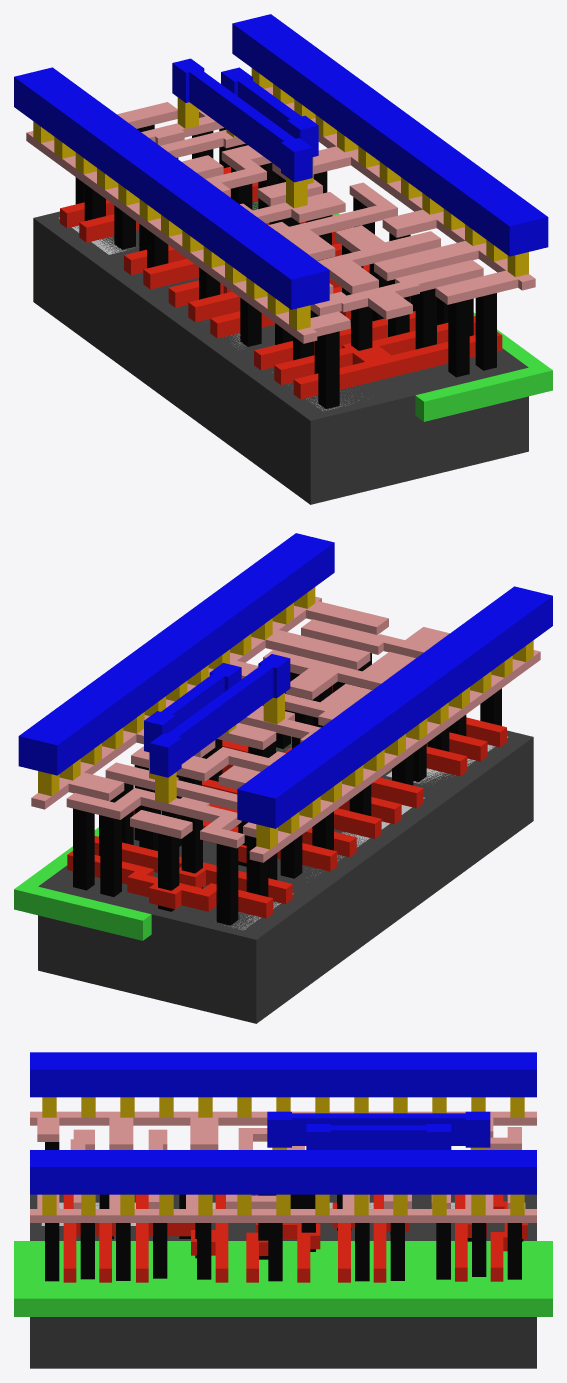
Rendered from sky130_fd_sc_hd__dlxtn_2.obj.
3 renders of one model, top to bottom at view 1: azimuth 30°, elevation 25°; view 2: azimuth 150°, elevation 25°; view 3: azimuth 270°, elevation 25°, orthographic. The views are drawn at different scales.
Parts seen in each view (by area): view 1: subs, metal1, li, licon, poly, mcon, nwell; view 2: metal1, subs, li, licon, poly, mcon, nwell, diff; view 3: metal1, subs, nwell, li, licon, poly, mcon.
Part boxes in pixels (left/top/right/bottom): subs: left=33, top=201, right=528, bottom=504; metal1: left=14, top=14, right=548, bottom=309; li: left=26, top=86, right=535, bottom=343; licon: left=75, top=124, right=496, bottom=408; poly: left=60, top=166, right=502, bottom=399; mcon: left=33, top=68, right=528, bottom=330; nwell: left=252, top=202, right=552, bottom=421; metal1: left=18, top=533, right=552, bottom=828; subs: left=38, top=730, right=533, bottom=1023; li: left=31, top=596, right=540, bottom=862; licon: left=73, top=653, right=501, bottom=925; poly: left=67, top=685, right=506, bottom=918; mcon: left=38, top=587, right=533, bottom=849; nwell: left=14, top=743, right=291, bottom=940; diff: left=224, top=736, right=507, bottom=930; metal1: left=30, top=1052, right=536, bottom=1194; subs: left=30, top=1194, right=536, bottom=1368; nwell: left=14, top=1241, right=552, bottom=1316; li: left=30, top=1111, right=536, bottom=1222; licon: left=45, top=1142, right=523, bottom=1281; poly: left=63, top=1194, right=527, bottom=1282; mcon: left=42, top=1097, right=524, bottom=1215.
Bounding box in the file's own units: 3.2 × 2.74 × 6.36.
